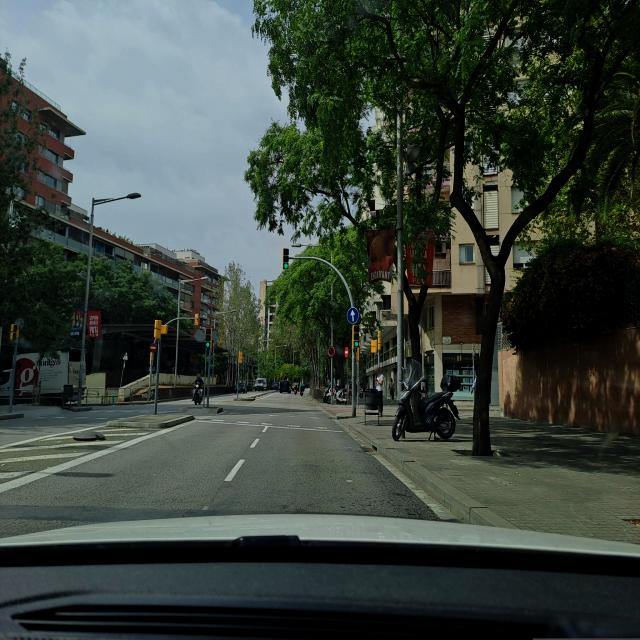bike: (391, 375, 458, 441), (192, 384, 208, 406)
car: (278, 379, 292, 394), (255, 378, 268, 391), (236, 380, 247, 393)
